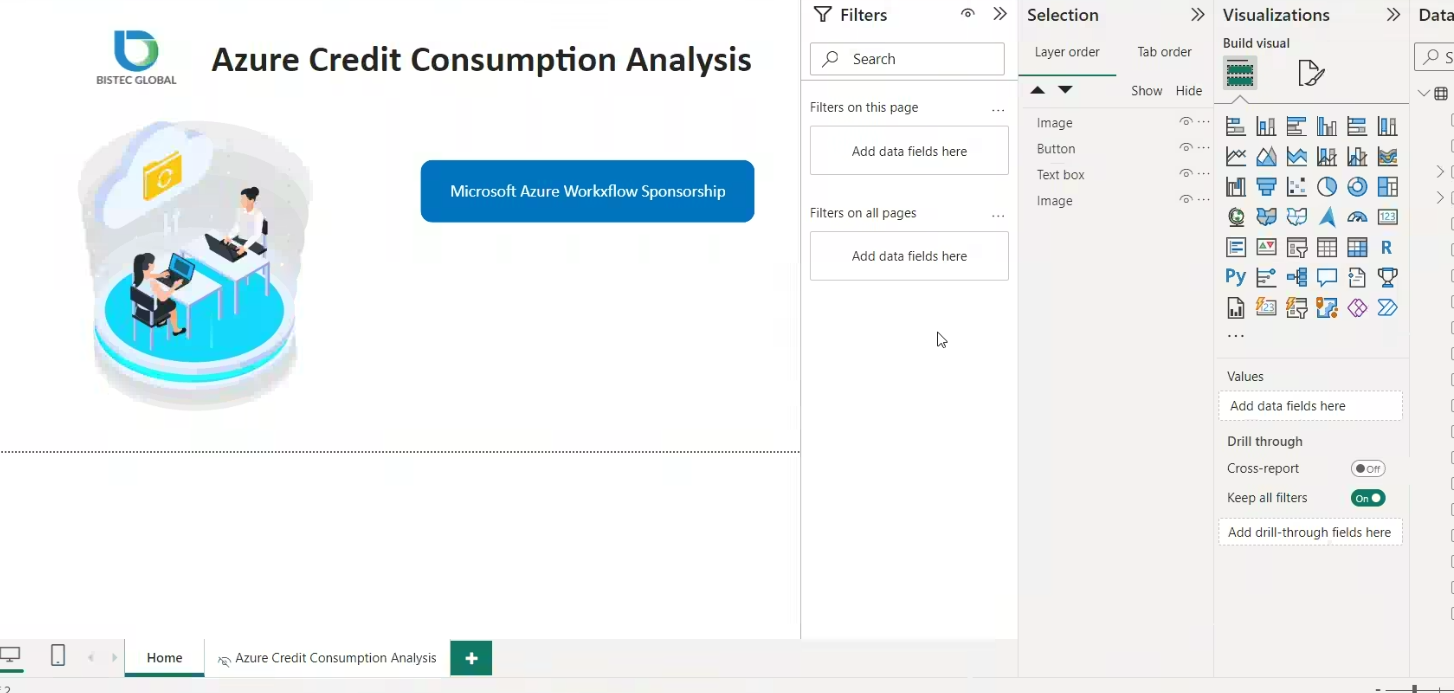

Layout of this report page (visuals, bound fields, positions):
{"tool":"powerbi","page":{"name":"Home","canvas":[1280,720],"ordinal":0},"visuals":[{"type":"image","box":[0,105.5,655.3,614.5],"z":0},{"type":"textbox","box":[313.2,61.3,931.1,86.8],"z":1000},{"type":"actionButton","box":[689.4,360.6,526.9,75.8],"z":2000},{"type":"image","box":[163.4,32.3,144.7,144.7],"z":2500}]}

Visuals, with their boxes on the page's 1280x720 design canvas (x1, y1, x2, y2). These are canvas units, not pixel positions in the 1454x693 screenshot, which may show the page scaled, cropped or inside an application window:
image: (0, 106, 655, 720)
textbox: (313, 61, 1244, 148)
actionButton: (689, 361, 1216, 436)
image: (163, 32, 308, 177)
